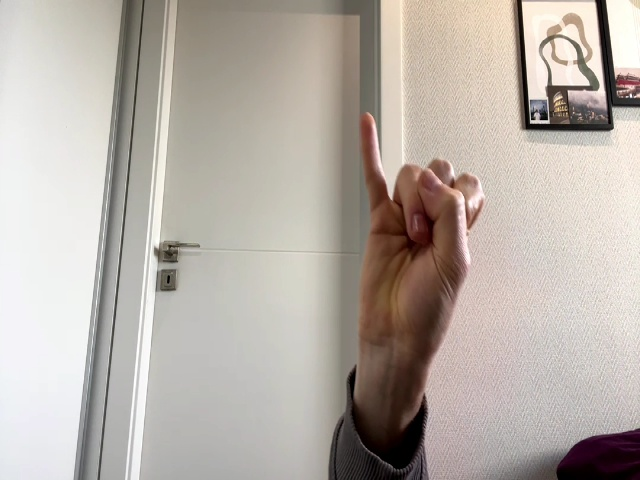I: (358, 111, 485, 348)
